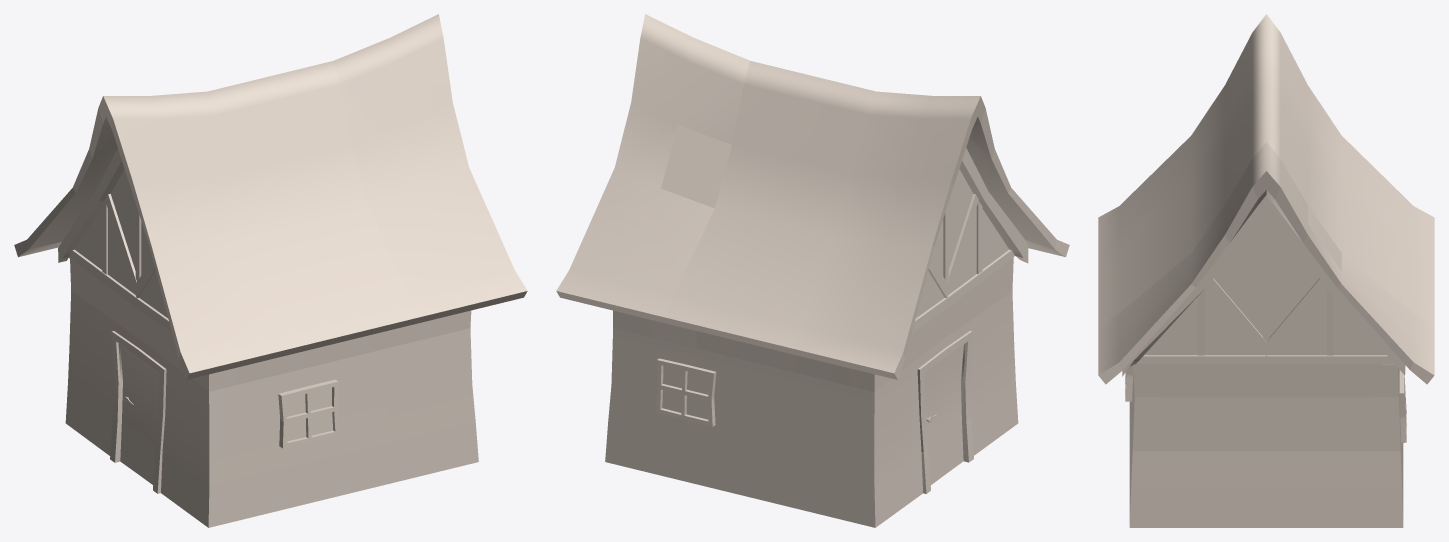
File: House hut.fbx
3 views of the same model, side by side, from view 1: azimuth 30°, elevation 25°; view 2: azimuth 150°, elevation 25°; view 3: azimuth 270°, elevation 25° (orthographic). The views are drawn at different scales.
Parts seen in each view (by area): view 1: pasted__pasted__pasted__pasted__pasted__pCube2; view 2: pasted__pasted__pasted__pasted__pasted__pCube2; view 3: pasted__pasted__pasted__pasted__pasted__pCube2.
Part boxes in pixels (x1,y1,x2,y2): pasted__pasted__pasted__pasted__pasted__pCube2: [14, 14, 527, 527]; pasted__pasted__pasted__pasted__pasted__pCube2: [556, 14, 1069, 527]; pasted__pasted__pasted__pasted__pasted__pCube2: [1098, 14, 1434, 527].
Bounding box in the file's own units: 533 × 585 × 479.
